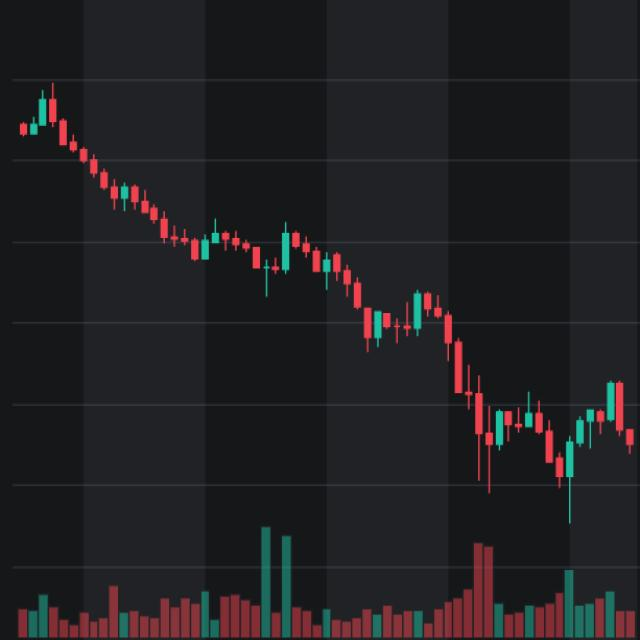Support-breakout: (28, 93, 497, 480)
